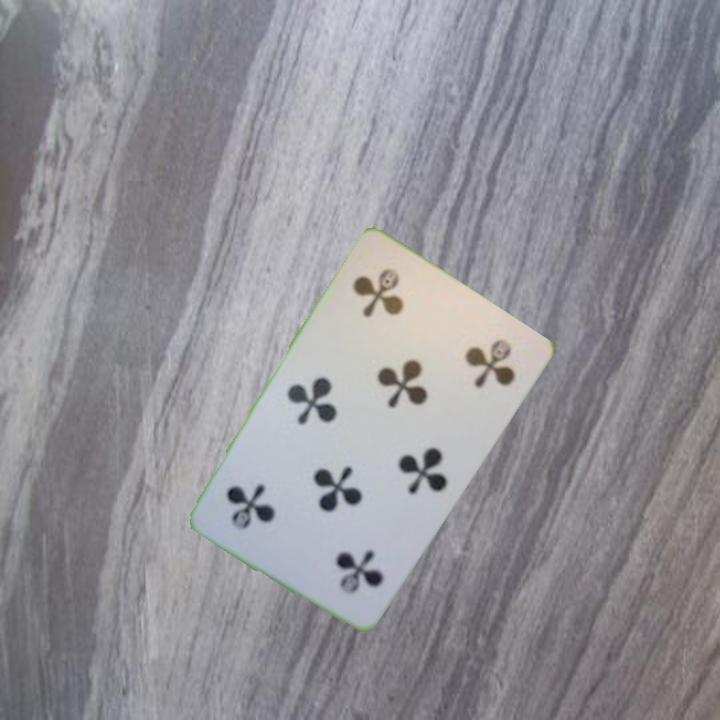c_8.png: (277, 494, 406, 619), (328, 246, 457, 370)
